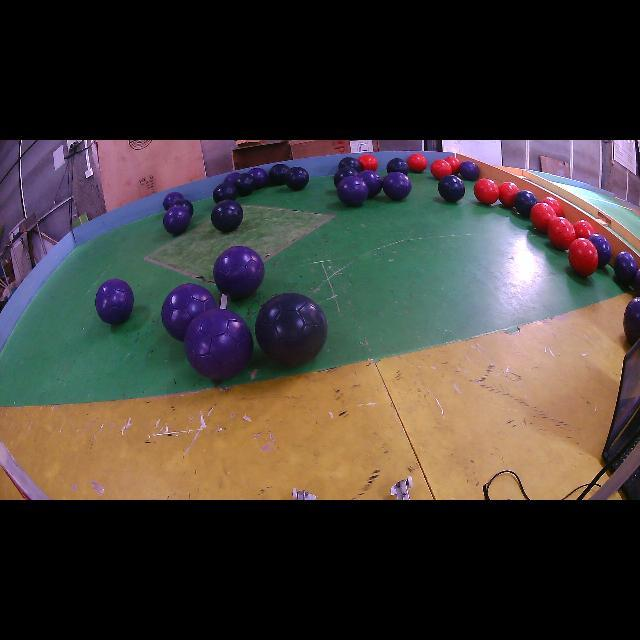B: (255, 292, 328, 366), (211, 200, 244, 232), (624, 296, 640, 345), (438, 175, 465, 202), (514, 190, 538, 218), (285, 166, 309, 191), (212, 182, 238, 204), (334, 166, 359, 188), (234, 174, 256, 196), (269, 164, 289, 185), (171, 199, 194, 216), (386, 159, 409, 175), (339, 156, 361, 172)
P: (184, 309, 254, 380), (161, 282, 218, 340), (212, 246, 265, 299), (95, 279, 134, 324), (336, 176, 369, 206), (162, 205, 191, 235), (382, 171, 411, 200), (614, 251, 638, 286), (589, 234, 611, 269), (358, 170, 382, 197), (162, 191, 184, 211), (248, 168, 268, 188), (460, 161, 479, 180), (632, 269, 640, 296), (224, 172, 240, 183)
R: (569, 238, 599, 276), (548, 216, 576, 250), (530, 202, 556, 232), (474, 179, 500, 205), (499, 181, 520, 208), (430, 159, 452, 179), (540, 198, 562, 216), (574, 220, 595, 238), (408, 154, 428, 172), (359, 154, 378, 171), (445, 156, 460, 175)
